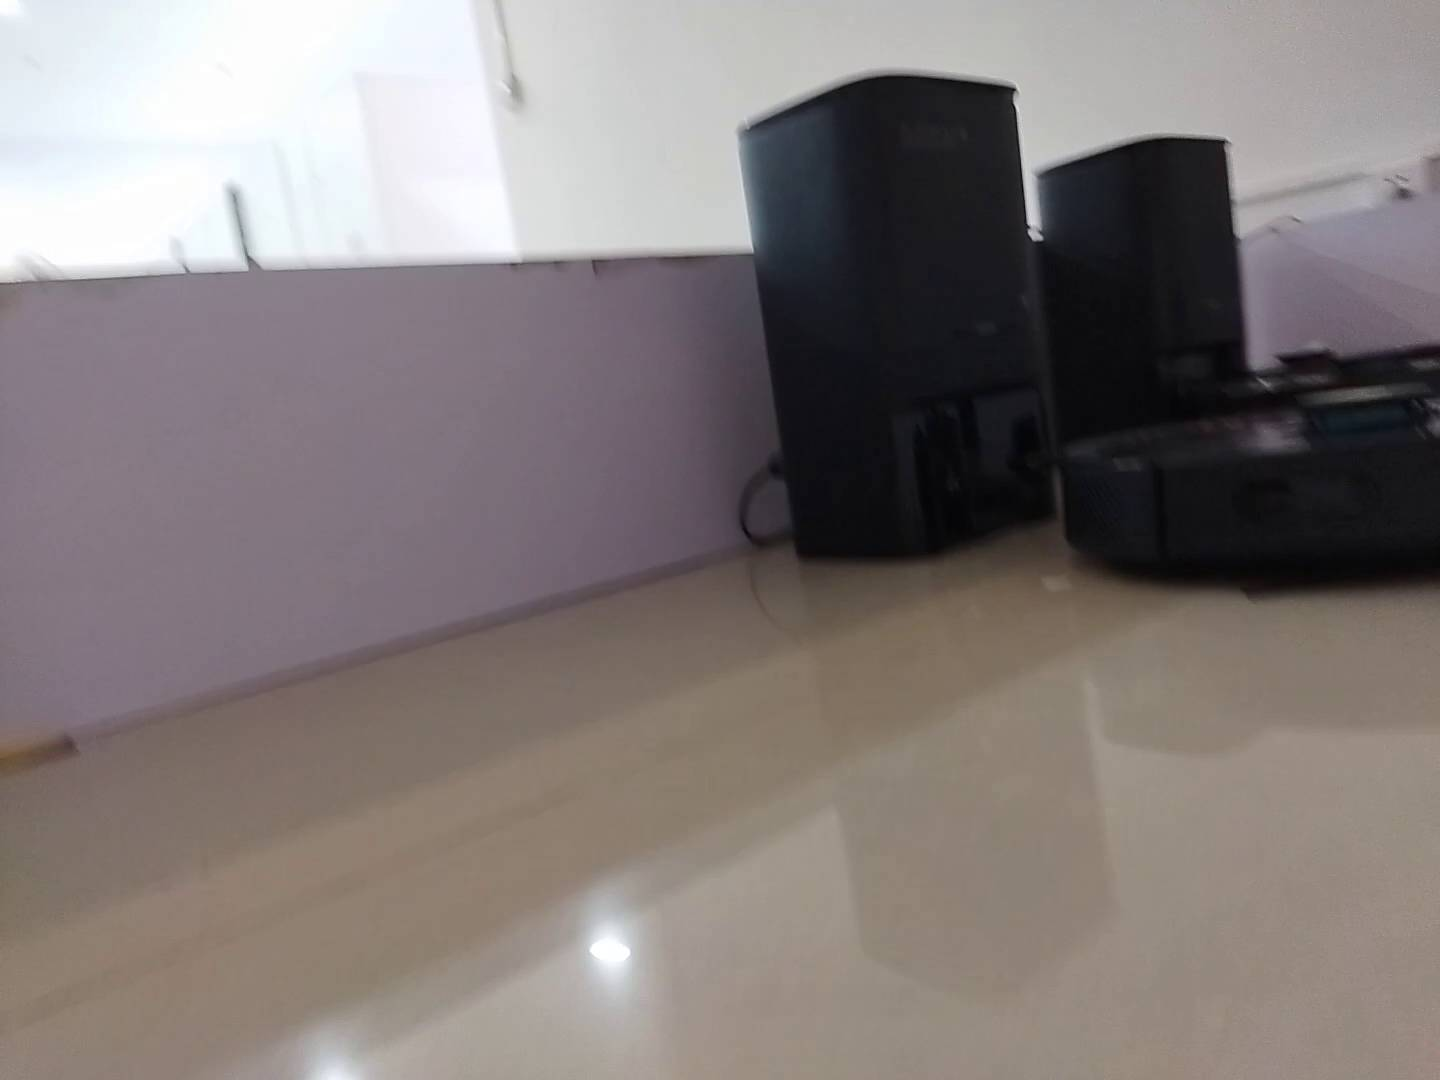dust collecting barrel: (737, 70, 1056, 563), (1033, 138, 1251, 433)
